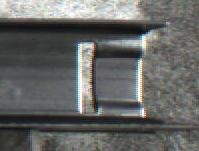press: (40, 15, 186, 135)
